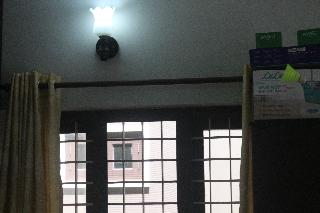shuttlecock: (280, 64, 306, 84)
